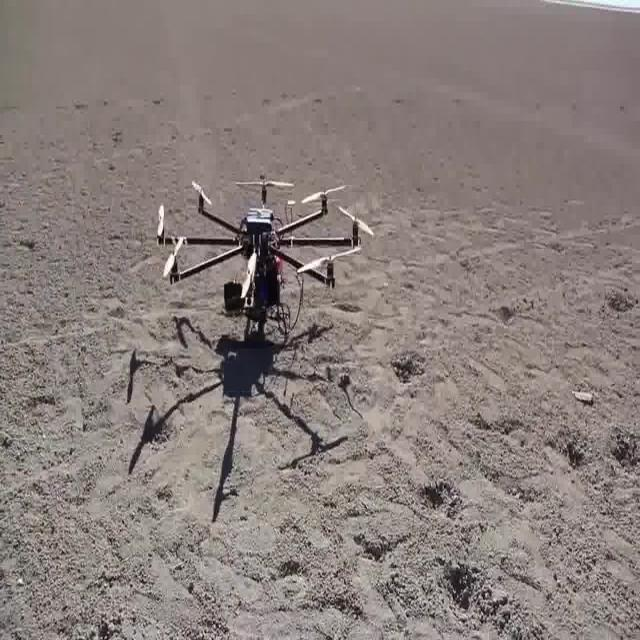drone: (141, 165, 385, 439)
